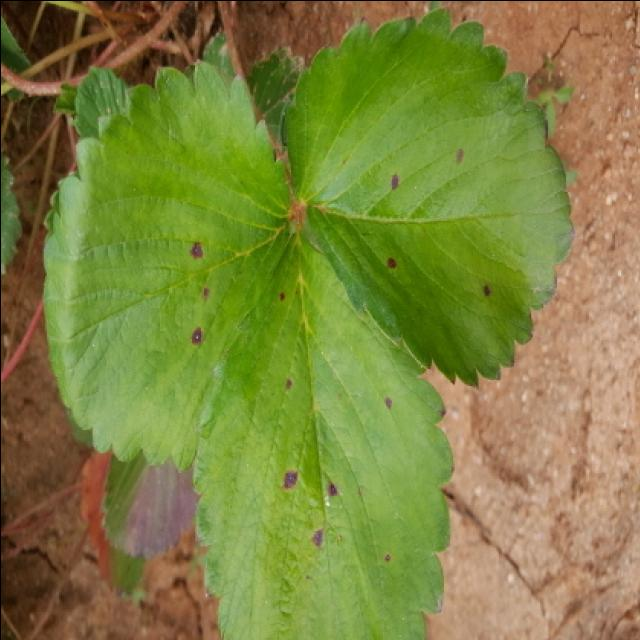Leaf Spot: (277, 7, 574, 390), (188, 219, 455, 640), (40, 60, 300, 471)
